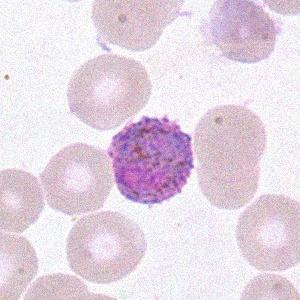Infected: (109, 118, 194, 205)
Uninfected: (65, 53, 151, 132), (65, 213, 146, 284), (195, 104, 267, 179), (235, 192, 300, 271), (42, 142, 113, 213), (207, 0, 275, 63), (200, 160, 260, 209)
